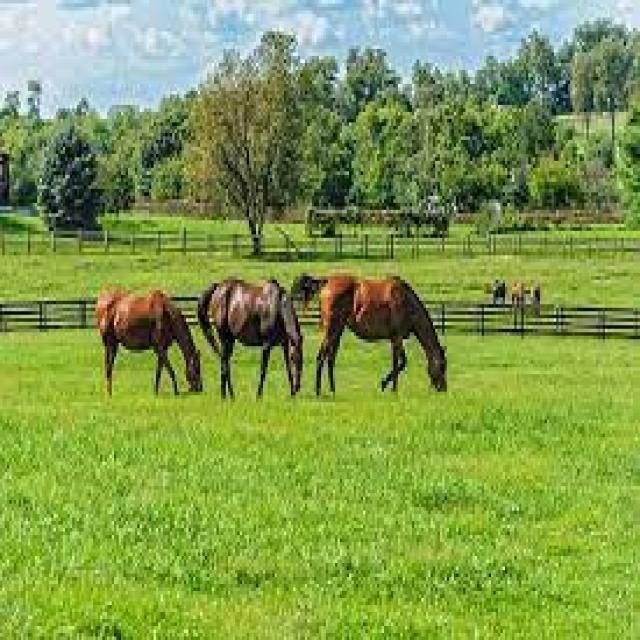horse: (302, 264, 454, 409), (201, 268, 311, 426), (90, 276, 206, 422)
